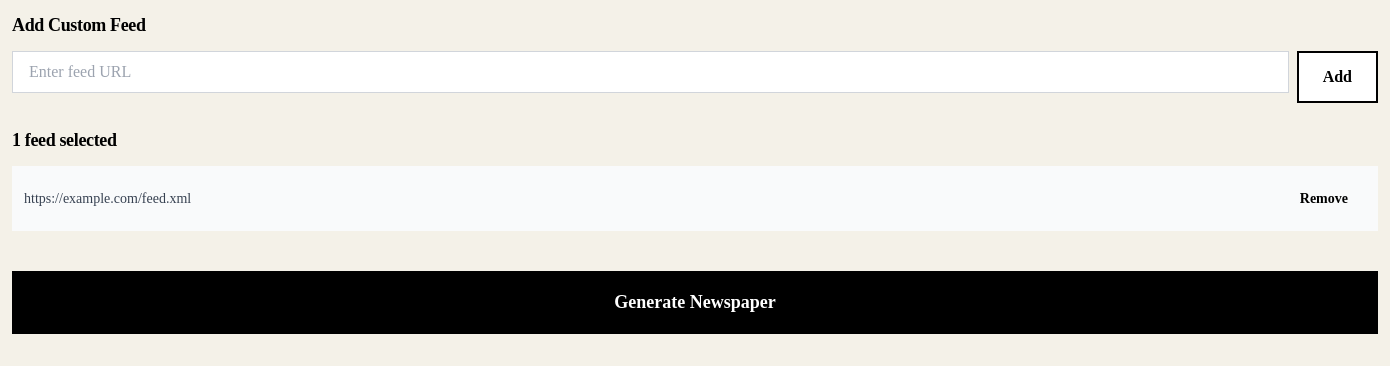
Test: FeedSelector › should prevent duplicate feeds
Type "https://example.com/feed.xml" into the field with placeholder "Enter feed URL". click: (650, 72)
box: x1=12 y1=51 x2=1289 y2=93
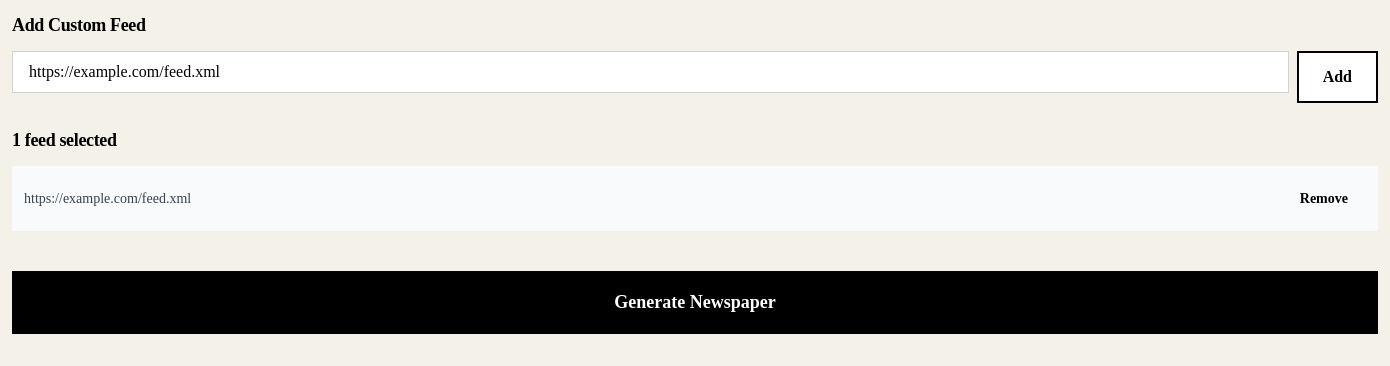
Click the button "Add". click: (1337, 77)
box: x1=1297 y1=51 x2=1378 y2=103
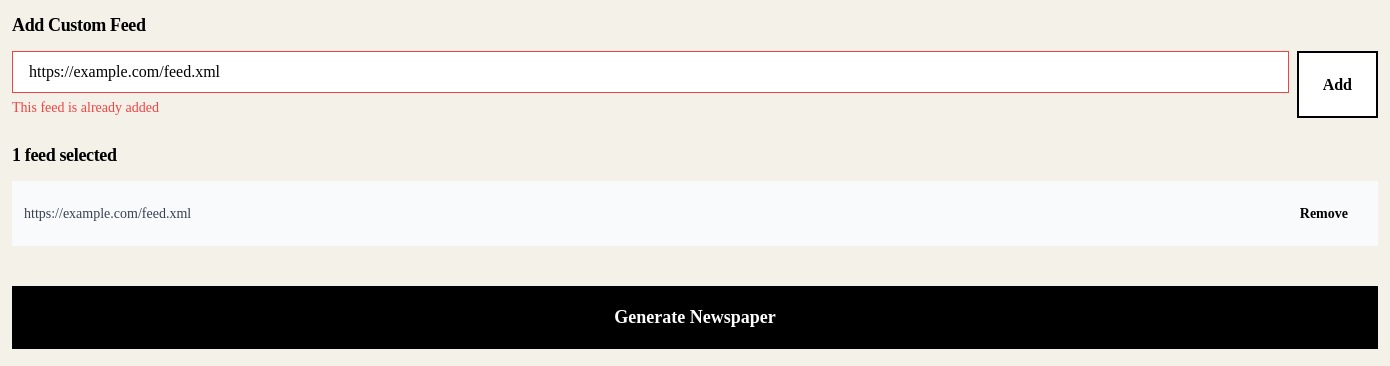
expect the text "This feed is already added" is shown: met, box x1=12 y1=100 x2=159 y2=115
